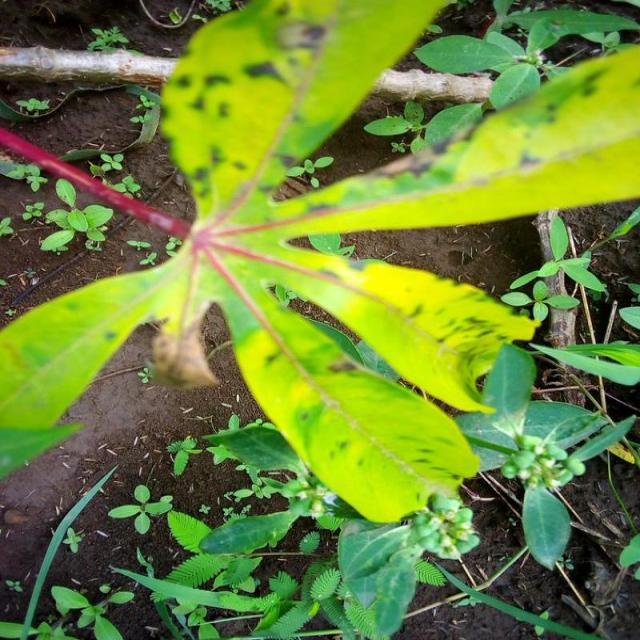cassava leaf: (1, 0, 637, 529)
